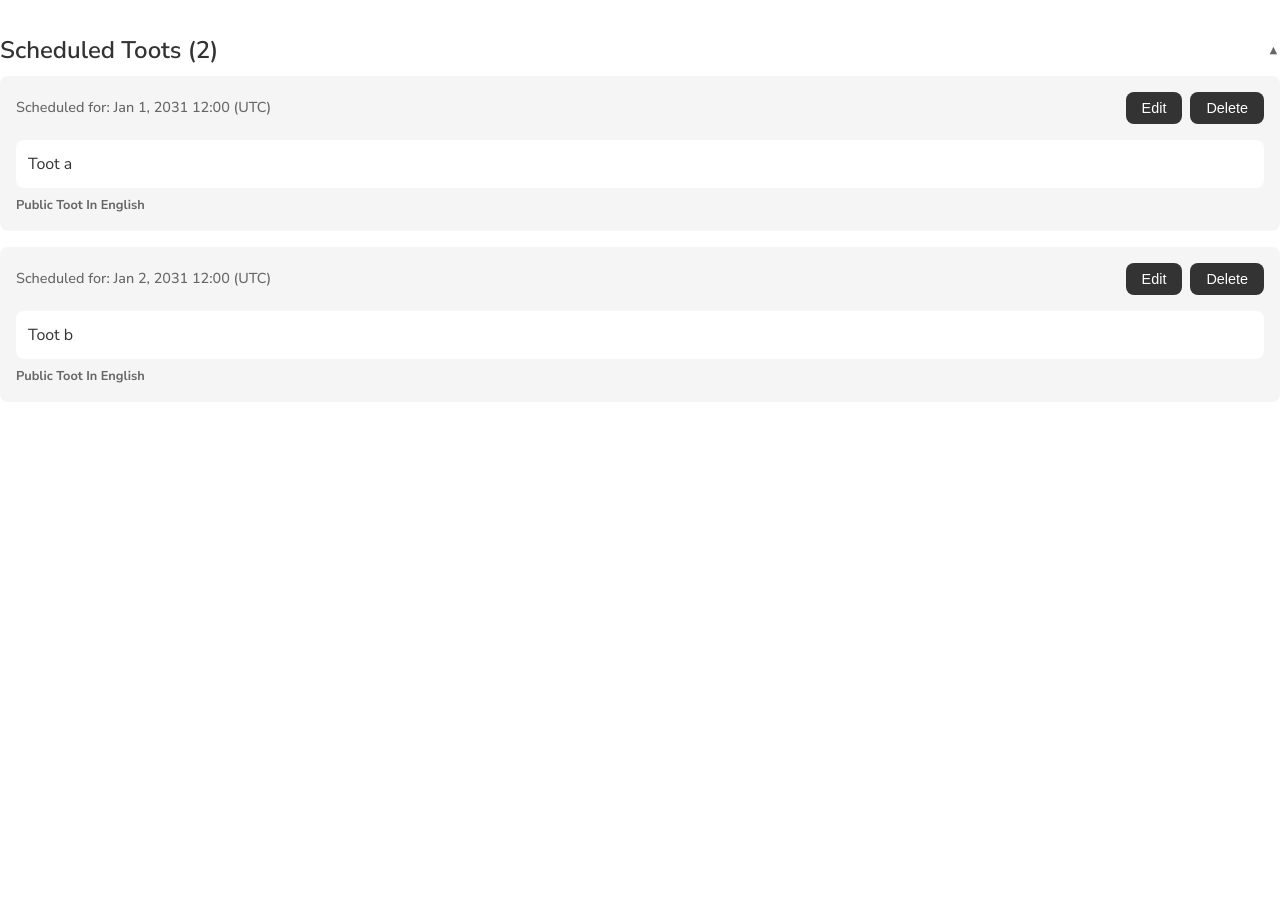
Test: ScheduledToots › with two toots › keeps focus on the toggle even if the list is collapsed after the deletion
Click the button with class "delete-button" in the row of "Scheduled for: Jan 1, 2031 12:00 (UTC)". click: (1227, 108)
box: x1=1190 y1=92 x2=1264 y2=124
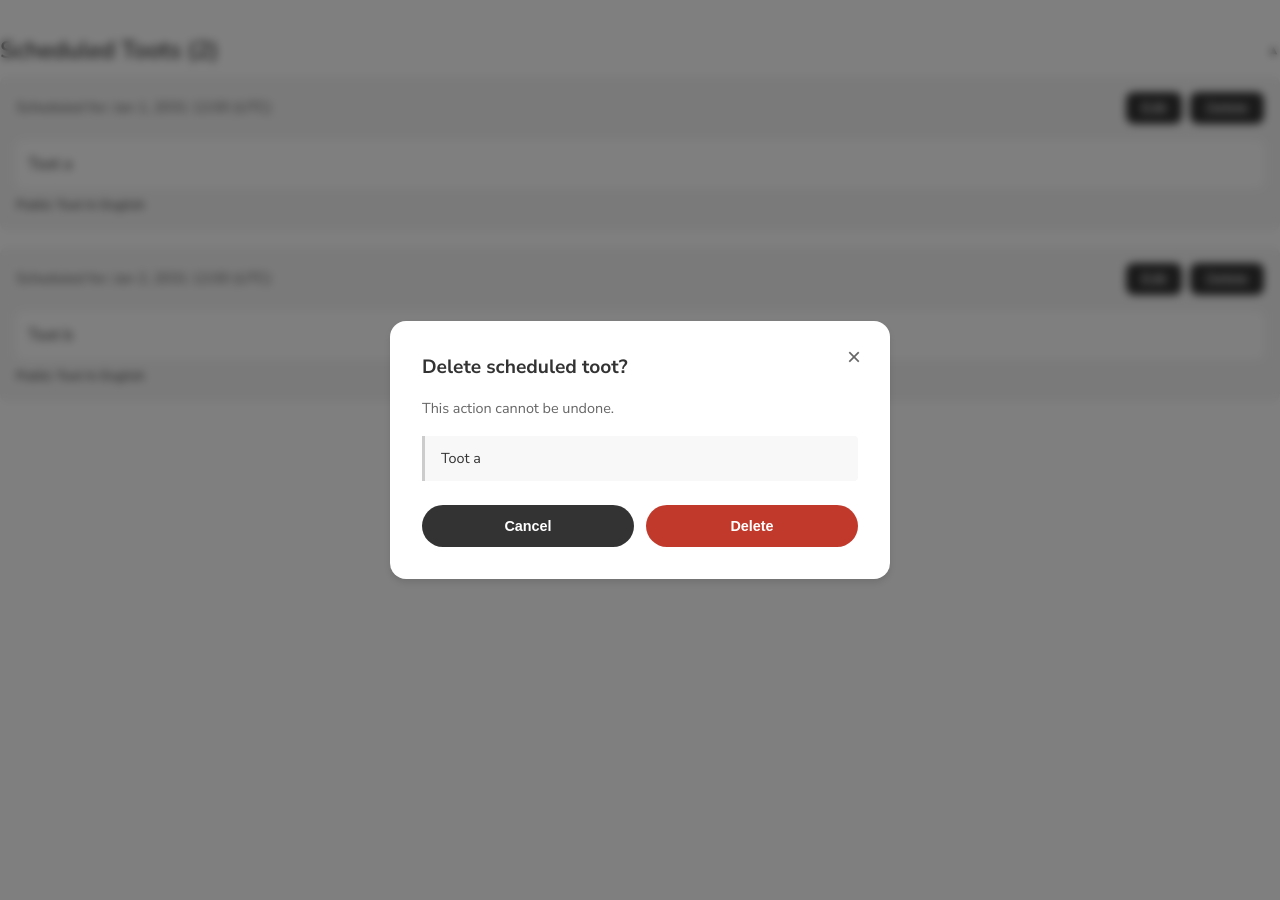
Click the button with class "btn-delete". click: (752, 526)
box: x1=646 y1=505 x2=858 y2=547
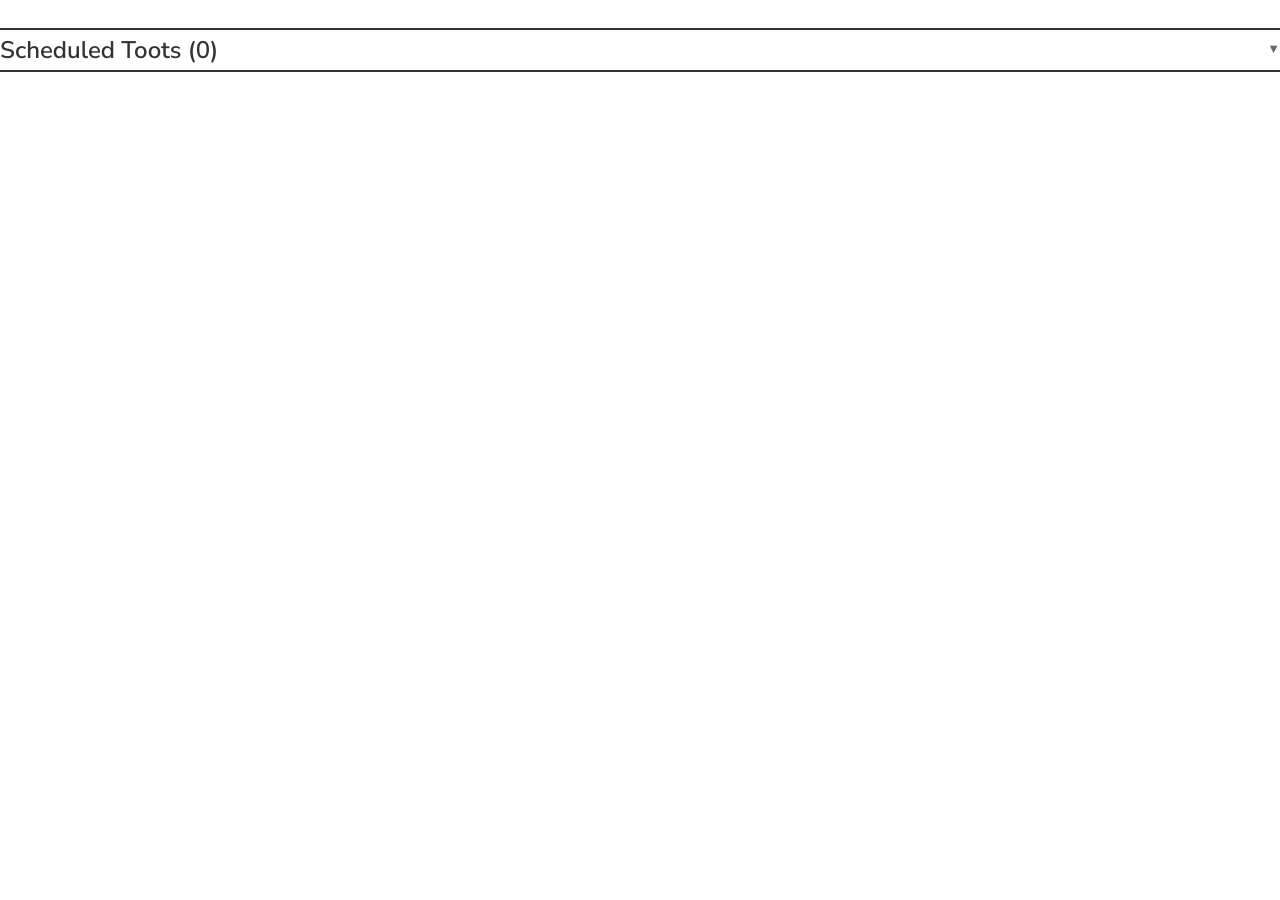
Expected: the button "Scheduled Toots (0)" is collapsed, x1=0 y1=32 x2=1279 y2=68
